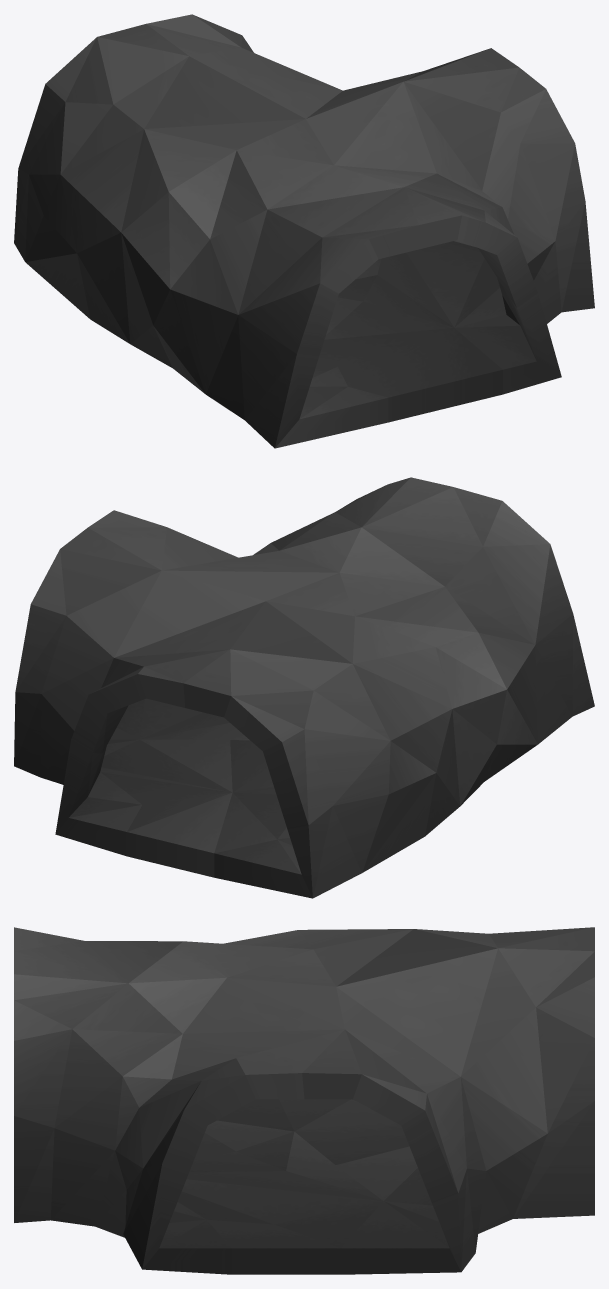
The model's file is GL-Cave-part-05-LOD2.fbx.
3 views of the same model, one above another, from view 1: azimuth 30°, elevation 25°; view 2: azimuth 150°, elevation 25°; view 3: azimuth 270°, elevation 25° (orthographic). The views are drawn at different scales.
Parts seen in each view (by area): view 1: GL_Cave_part_05; view 2: GL_Cave_part_05; view 3: GL_Cave_part_05.
Part boxes in pixels (<box>): GL_Cave_part_05: <box>14,14,594,448</box>; GL_Cave_part_05: <box>14,477,594,898</box>; GL_Cave_part_05: <box>14,927,594,1274</box>.
Size of the model in its own units: 5.04 by 2.32 by 6.
